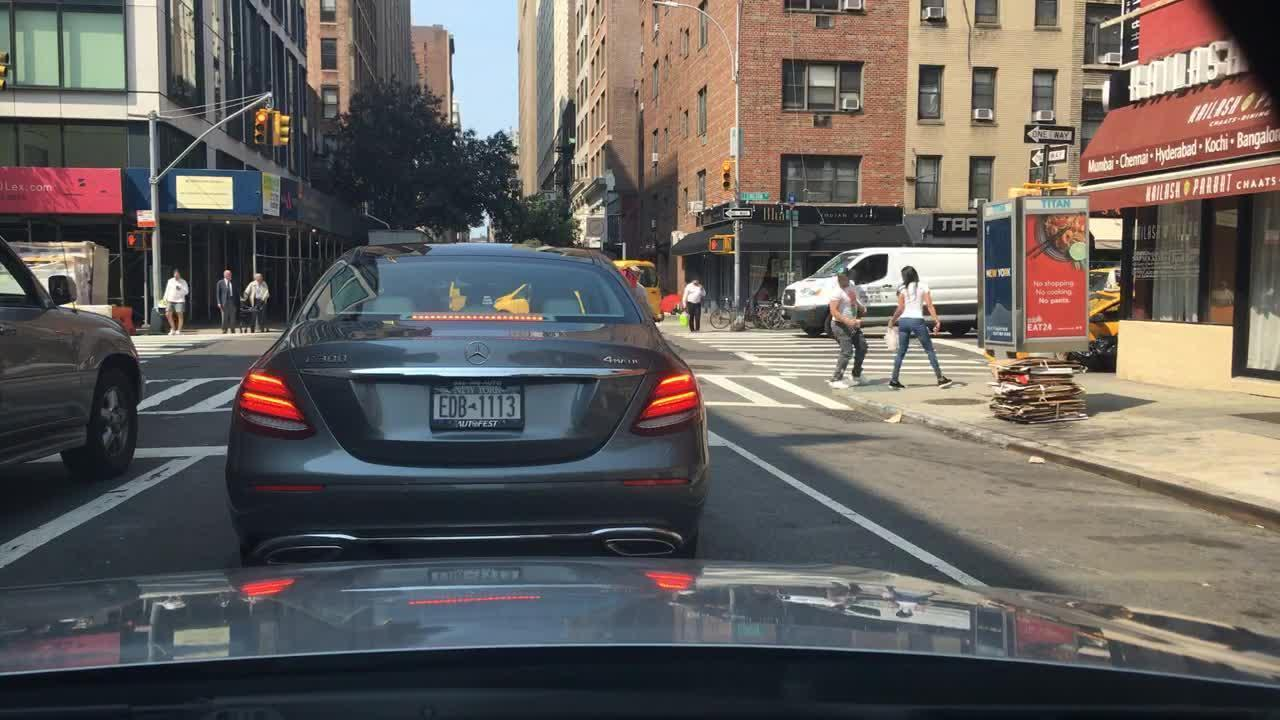Mercedes: (466, 336, 492, 365)
